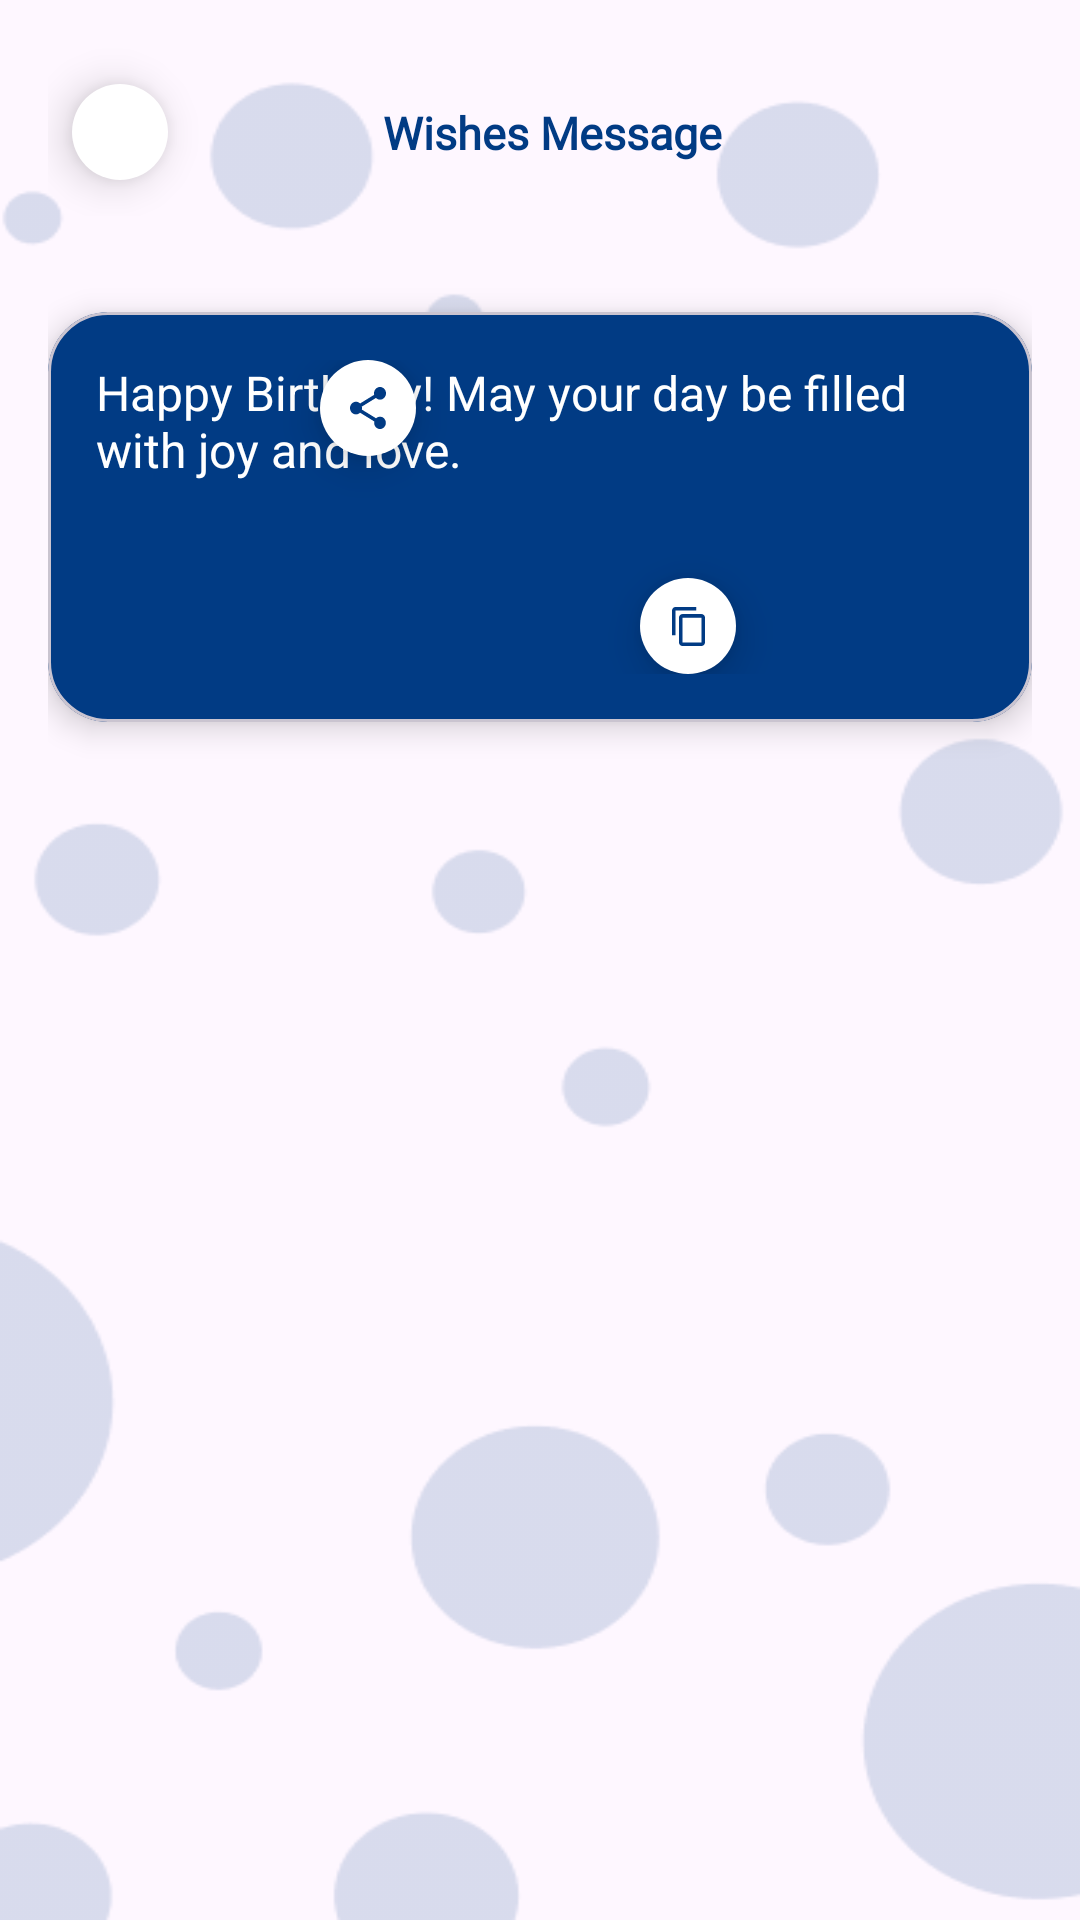

Icons on this 1080 x 1920 Android screen, each with its box as (x1, y1, x2, y2):
share: (320, 360, 416, 456)
